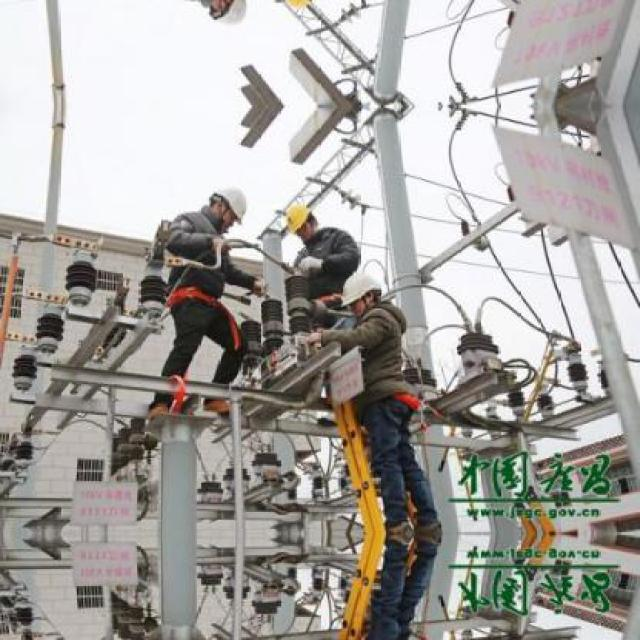helmet: (207, 178, 248, 228), (347, 264, 385, 314), (278, 201, 318, 239), (206, 0, 249, 35), (278, 0, 319, 12)
